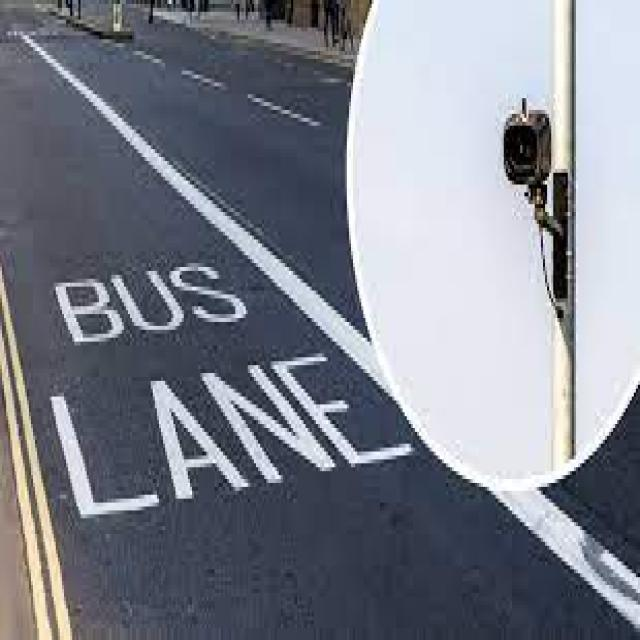BUS LANE: (45, 248, 421, 532)
